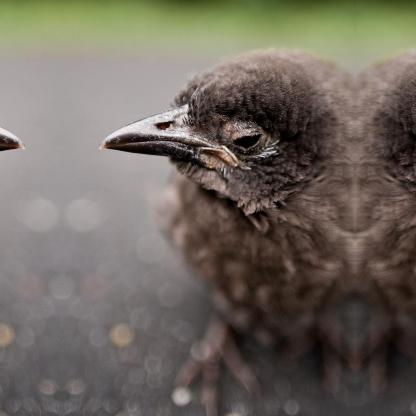Bird: (103, 75, 350, 383), (357, 75, 415, 384)
